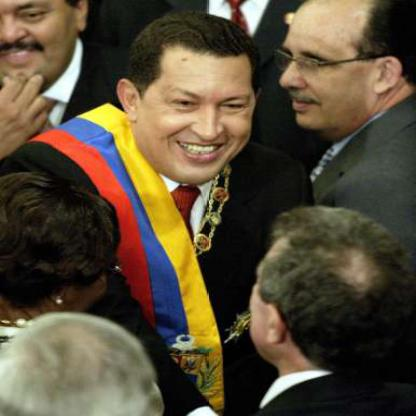face: (138, 20, 261, 186), (273, 1, 382, 135), (1, 1, 78, 89)
